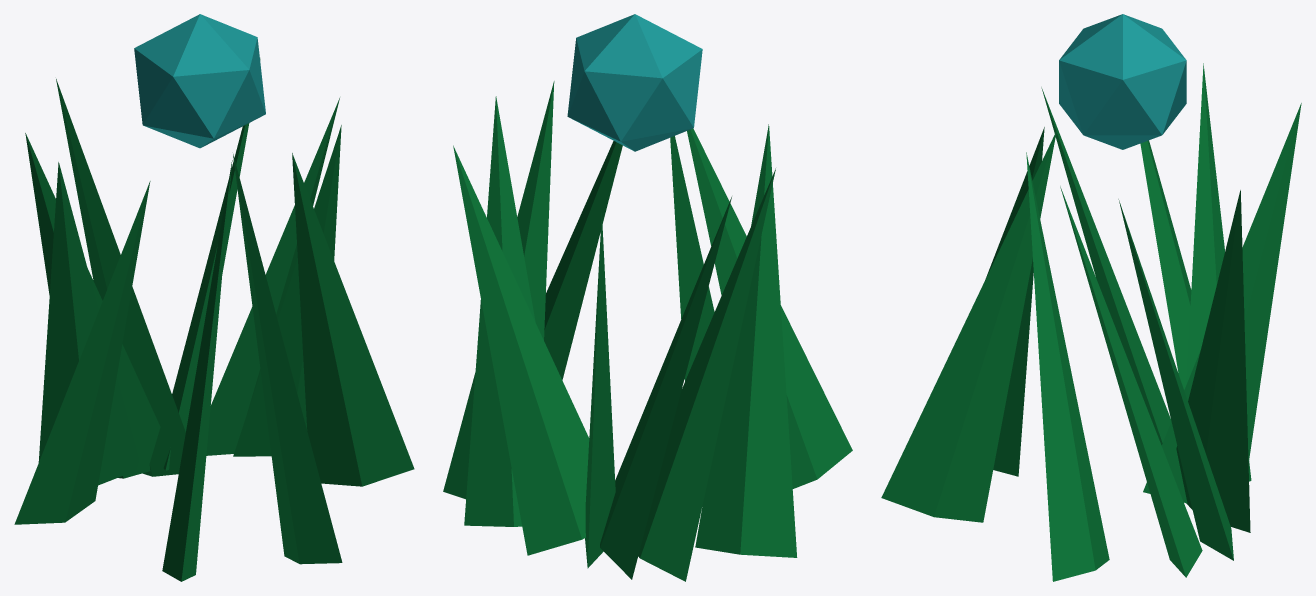
File: Prop_OR_Herb_25.glb
3 renders of one model, left to right at view 1: azimuth 30°, elevation 25°; view 2: azimuth 150°, elevation 25°; view 3: azimuth 270°, elevation 25°, orthographic. The views are drawn at different scales.
Parts seen in each view (by area): view 1: Prop_OR_Herb_25; view 2: Prop_OR_Herb_25; view 3: Prop_OR_Herb_25.
Boxes of the visible parts, <box> form: Prop_OR_Herb_25: <box>14,14,414,581</box>; Prop_OR_Herb_25: <box>443,14,852,581</box>; Prop_OR_Herb_25: <box>881,14,1301,581</box>.
Size of the model in its own units: 0.4887 by 0.6576 by 0.5.
